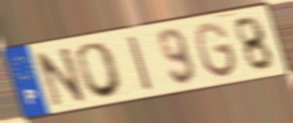8: (235, 14, 275, 73)
9: (157, 27, 198, 89)
G: (193, 20, 241, 81)
I: (125, 33, 156, 95)
N: (32, 44, 89, 110)
O: (74, 40, 127, 100)
